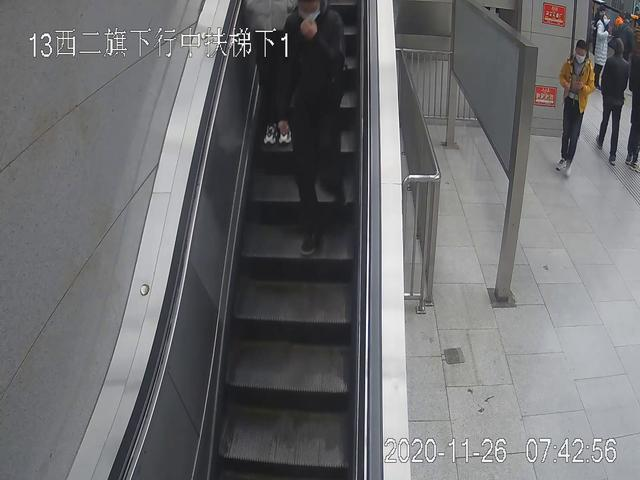person: (281, 1, 355, 259), (242, 1, 316, 146), (557, 39, 589, 179), (597, 39, 627, 166)
